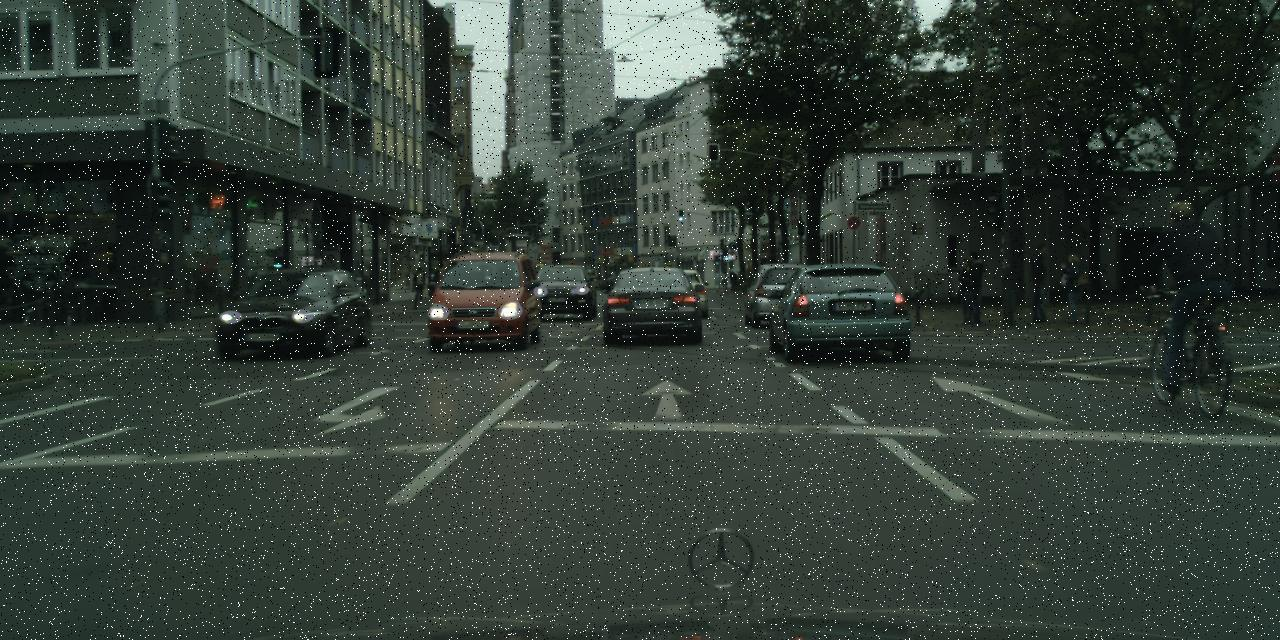ped: (1155, 201, 1228, 381), (1024, 245, 1056, 322), (959, 252, 989, 326), (1058, 254, 1086, 324), (952, 259, 978, 325), (412, 266, 427, 300), (728, 269, 737, 292)
